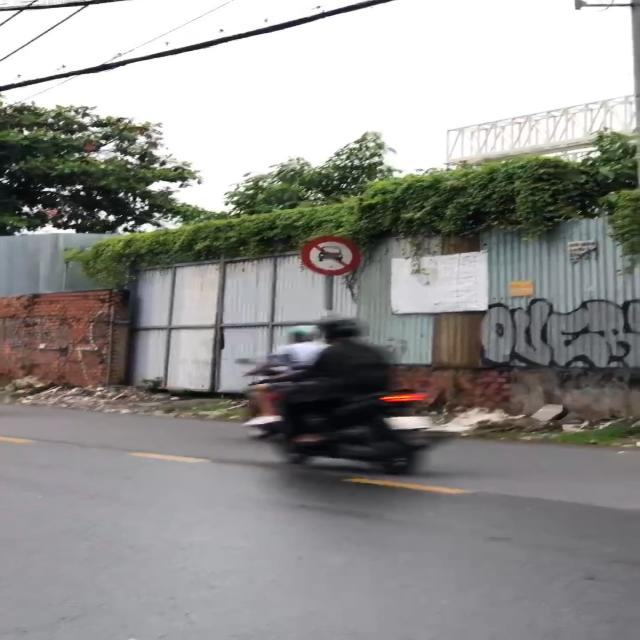Bien bao cam xe oto: (294, 234, 366, 278)
